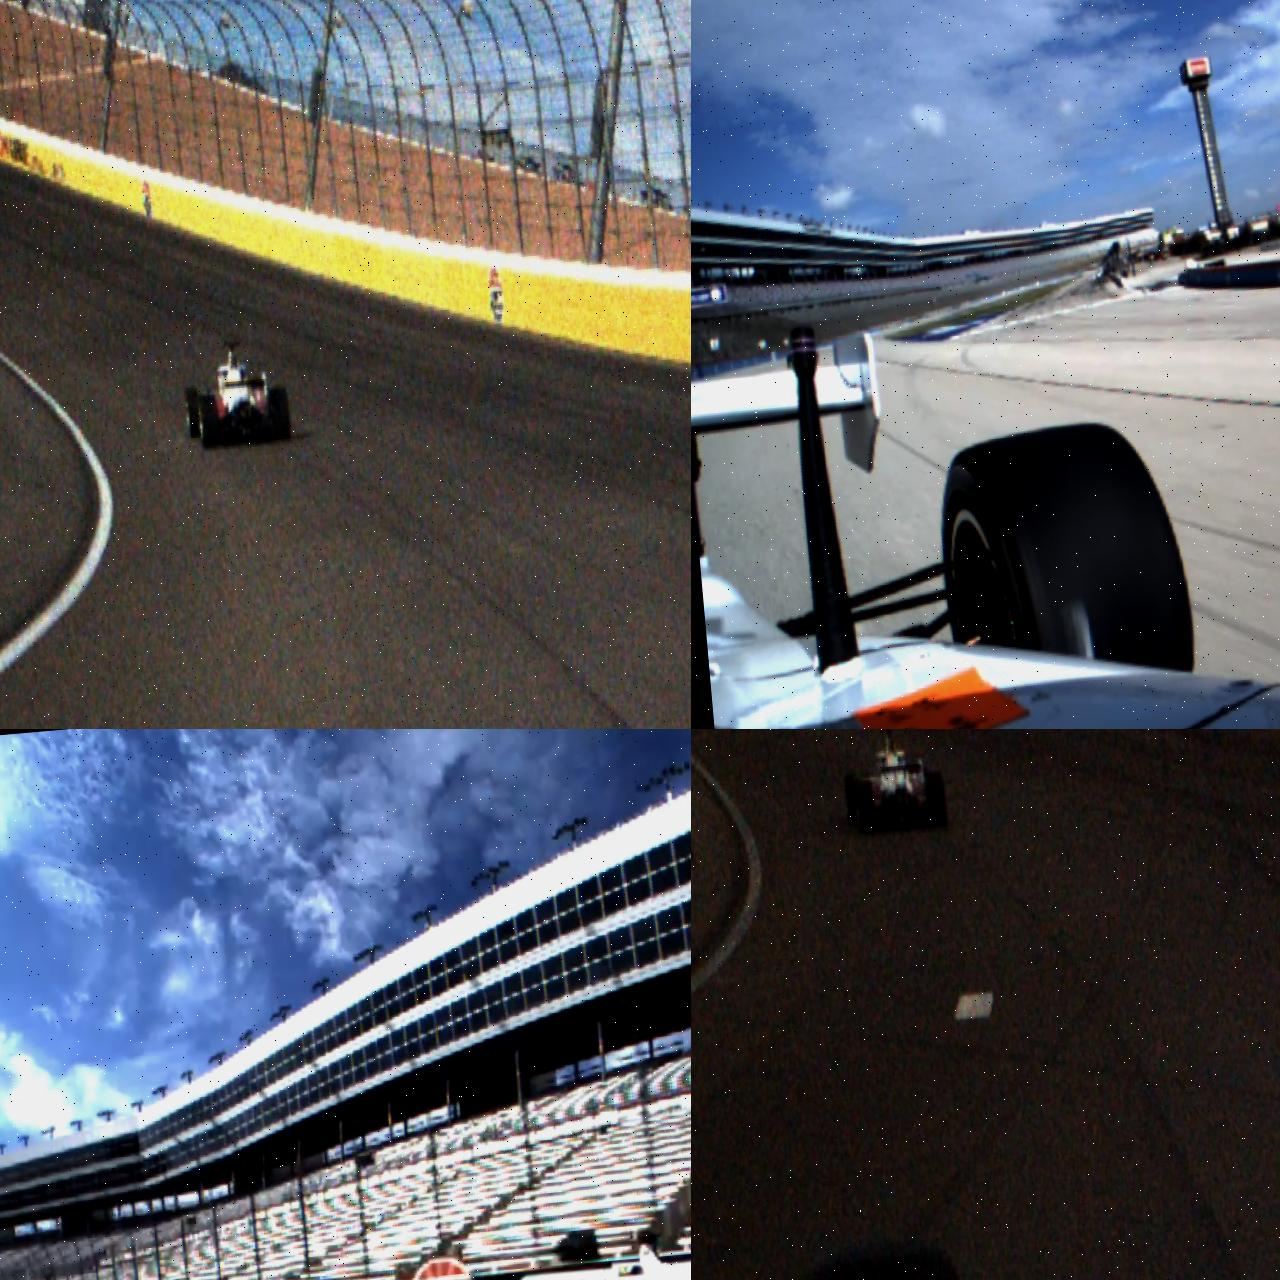AV: (449, 1216, 692, 1280), (181, 335, 292, 451), (839, 729, 949, 838)
Wheel: (932, 415, 1198, 694), (926, 770, 949, 830), (855, 779, 878, 837), (268, 387, 292, 443), (197, 395, 220, 449), (184, 386, 203, 440), (843, 772, 862, 826)
